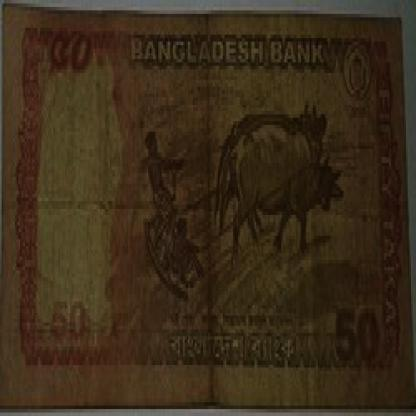Fifty taka: (324, 295, 398, 371), (52, 24, 108, 90)
